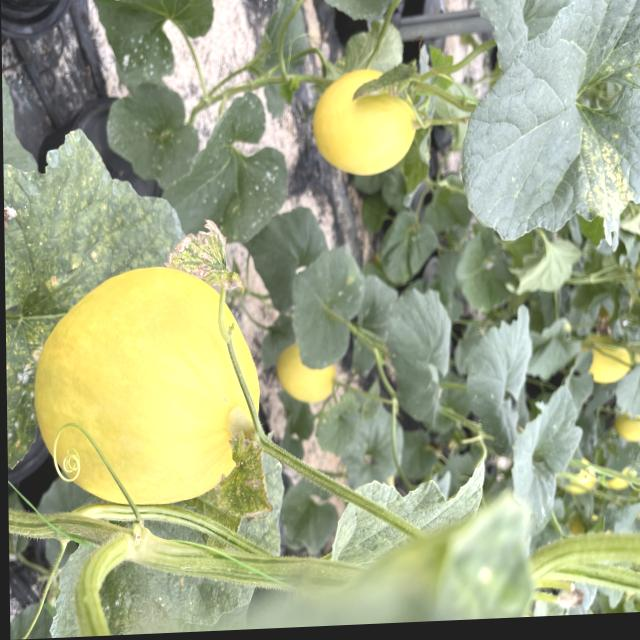alternaria leaf blight: (202, 430, 268, 547), (165, 213, 239, 298)
downy mildew: (2, 130, 181, 468), (450, 0, 640, 258)
